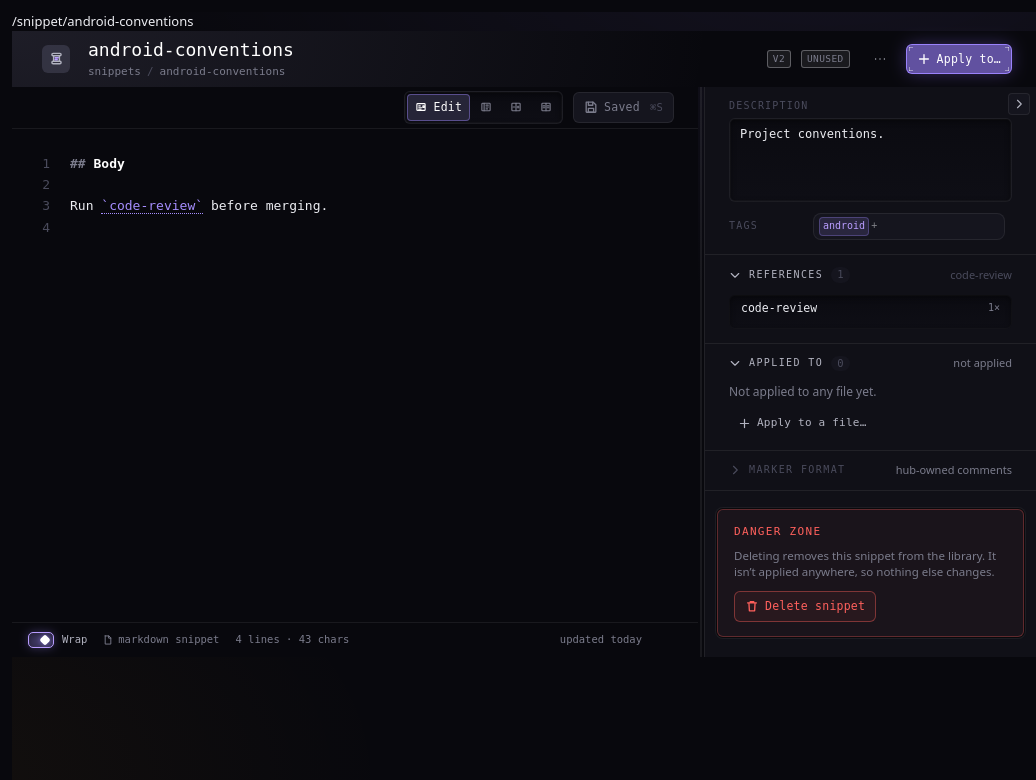
Scenario: SnippetEditor — references (edit mode) › (F3) a dirty description buffer does not block the rename-undo navigation
This screenshot has width=1036, height=780.
Click the button with aria-label "Rename snippet name: android-conventions": (200, 50) top-left (84, 38), bottom-right (316, 62)
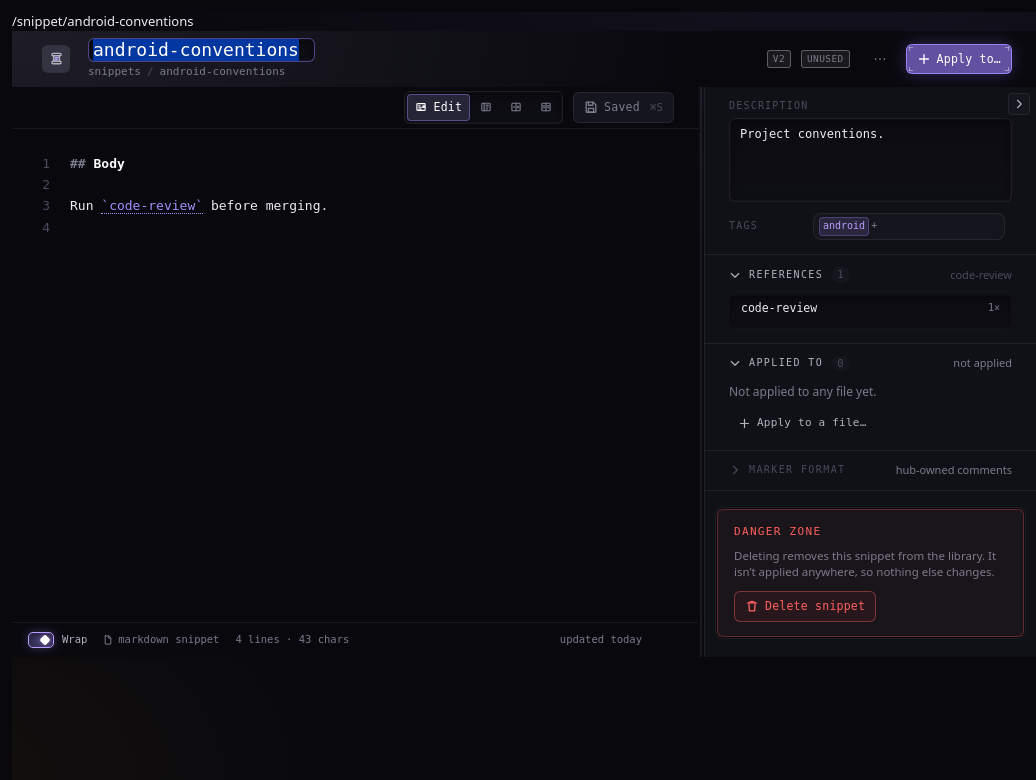
Clear the field named "Snippet name": (201, 50) top-left (88, 38), bottom-right (315, 62)
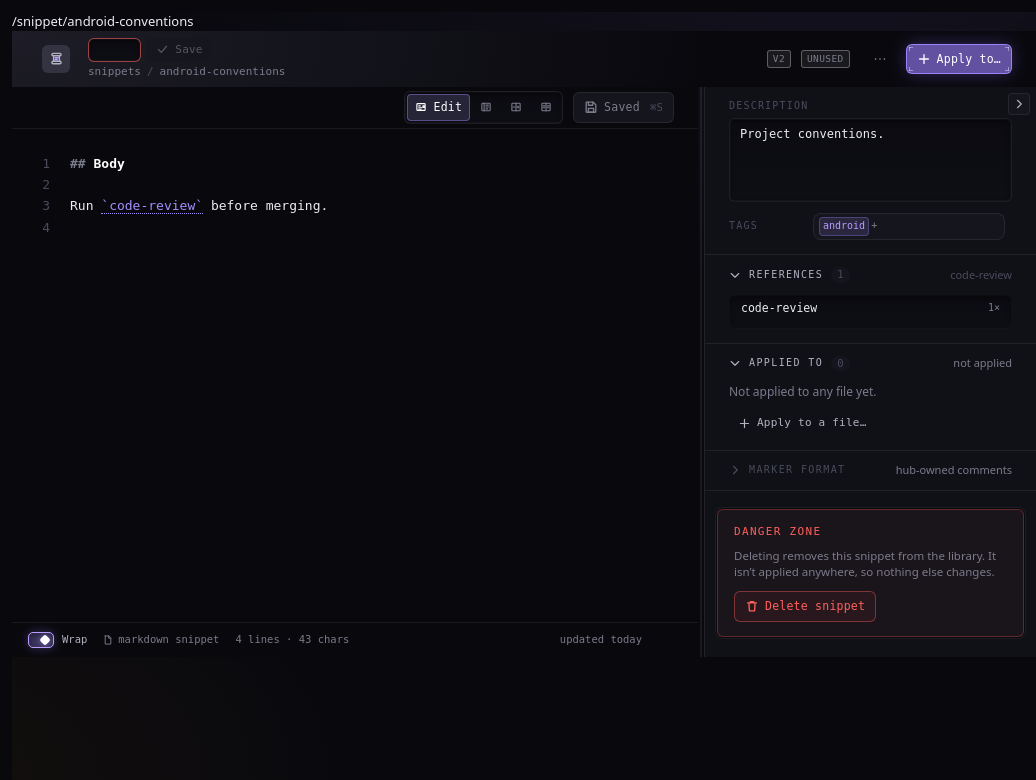
In the field named "Snippet name": (115, 50) top-left (88, 38), bottom-right (141, 62), type "android-guidelines"
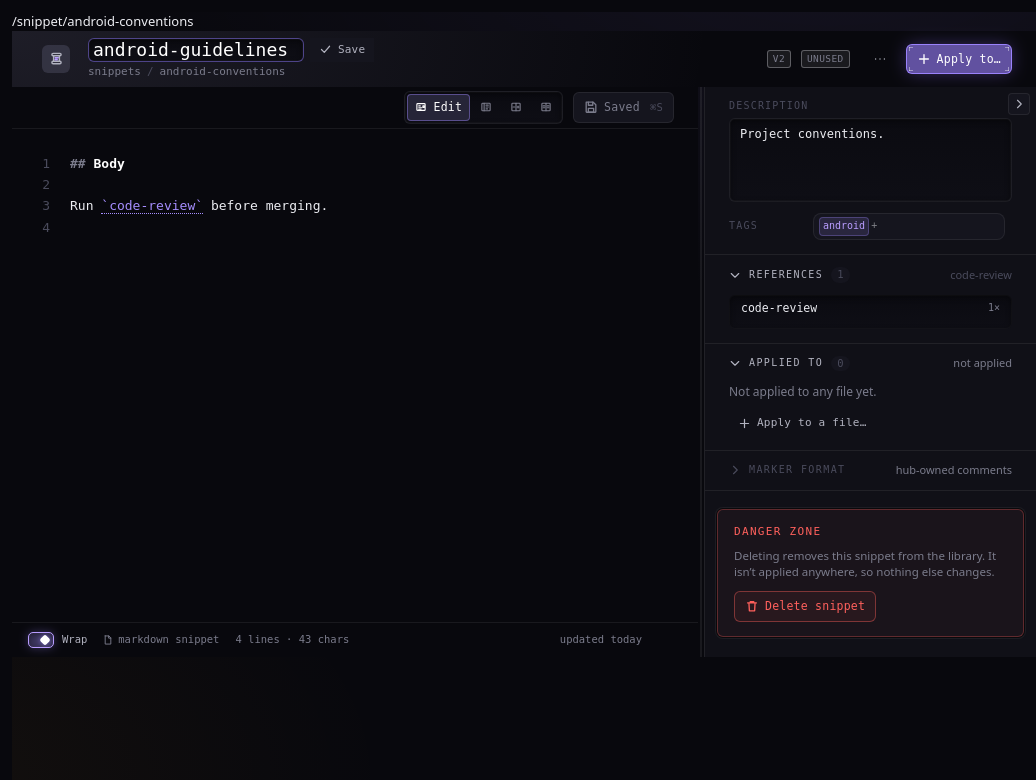
Press Enter
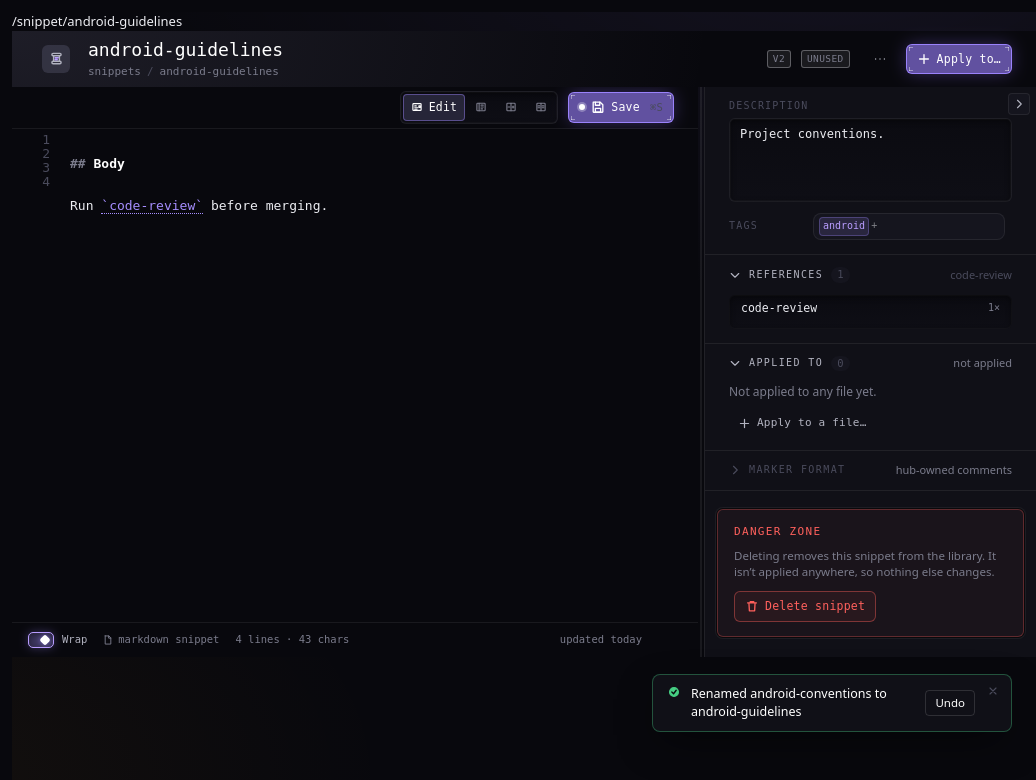
Now the text with test id "loc" reads "/snippet/android-guidelines", box top-left (12, 12), bottom-right (182, 30)
Replace the text in the text box with placeholder "One line — what this snippet instructs" below "description" with "Edited after rename.": (870, 160) top-left (729, 118), bottom-right (1012, 202)
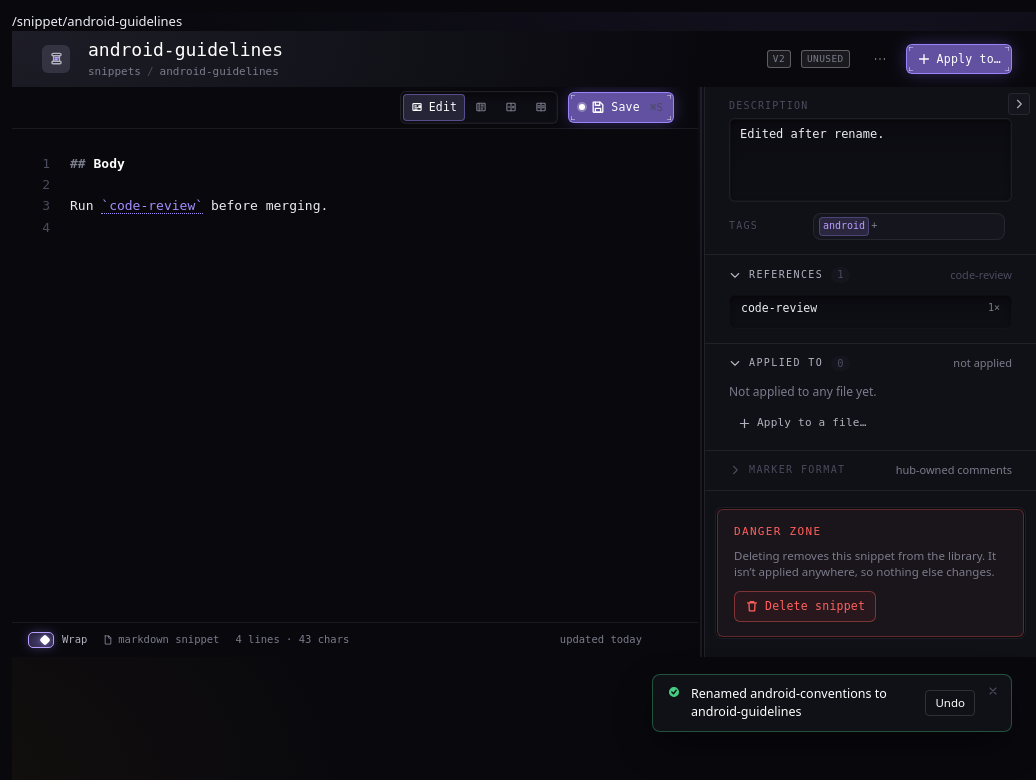
Click the button "Undo": (950, 703) top-left (926, 690), bottom-right (975, 716)
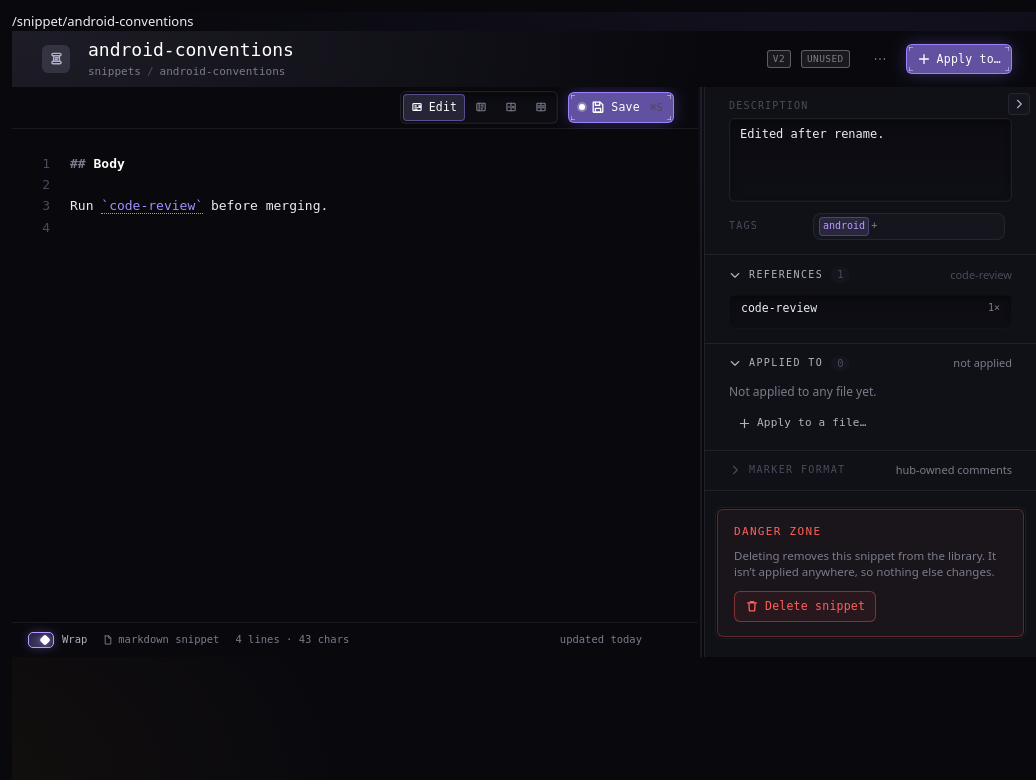
Now the text with test id "loc" reads "/snippet/android-conventions", box top-left (12, 12), bottom-right (193, 30)
